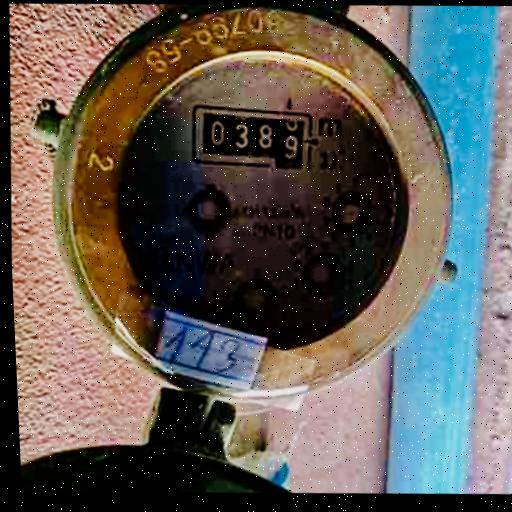0: (200, 112, 234, 157)
3: (230, 114, 257, 157)
8: (251, 116, 278, 159)
9: (272, 117, 306, 170)
border_water_meter_number: (187, 99, 315, 173)
